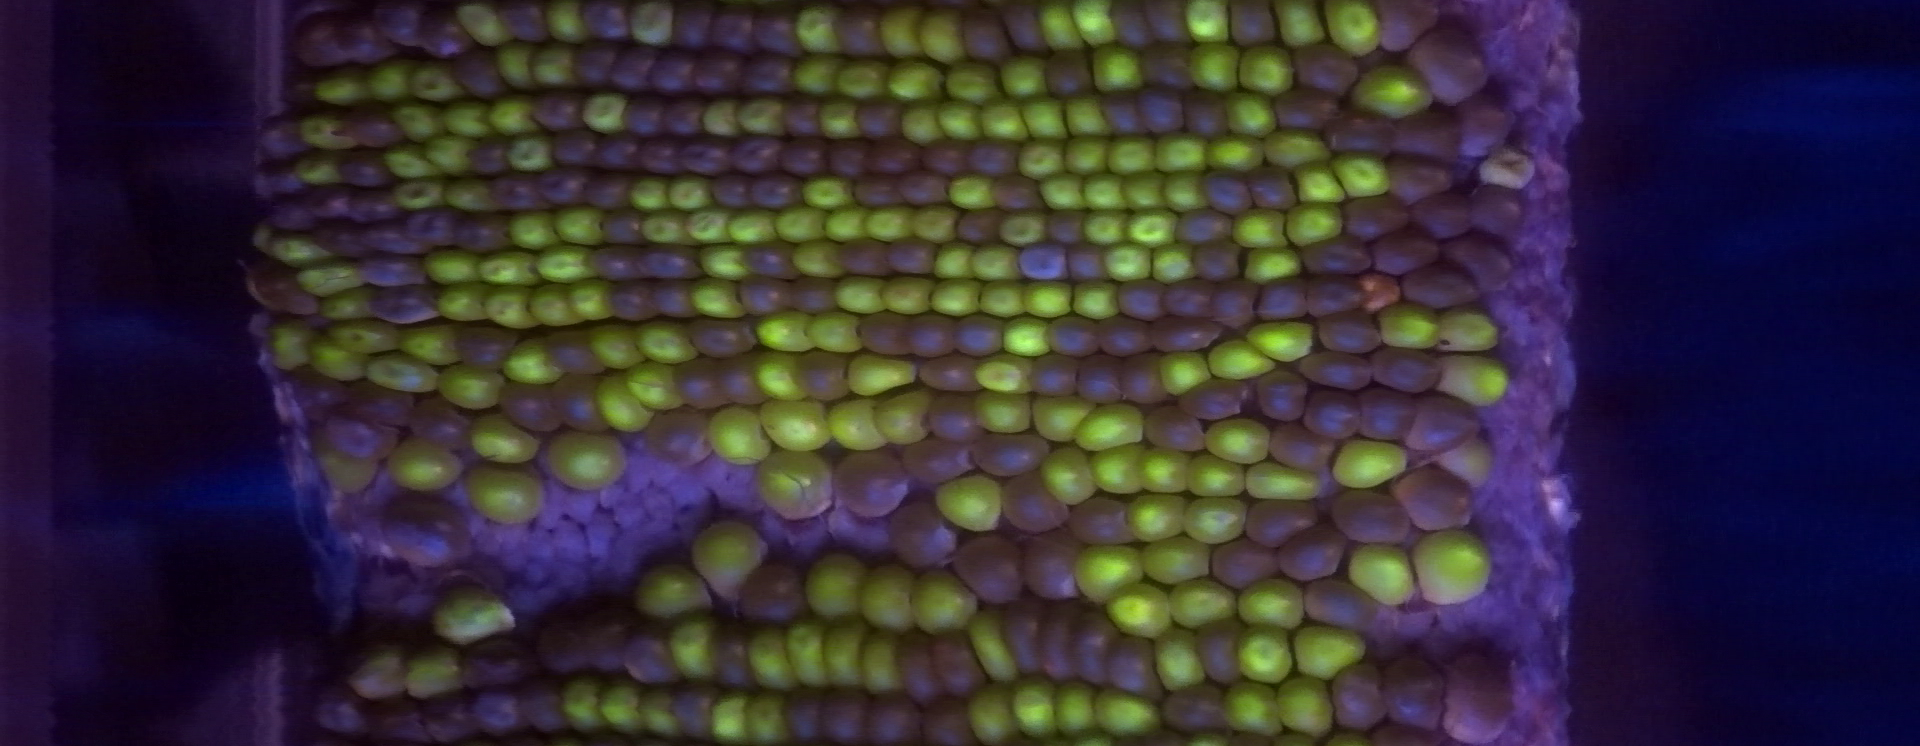fluorescent: (688, 517, 775, 606), (1404, 526, 1496, 608), (749, 446, 841, 524), (430, 583, 523, 649), (542, 425, 631, 494), (460, 462, 551, 528), (1068, 539, 1153, 608), (301, 420, 384, 489), (1341, 540, 1424, 609), (907, 563, 983, 637), (632, 561, 716, 626), (1347, 61, 1436, 122), (1289, 619, 1371, 685), (962, 606, 1025, 691), (1329, 434, 1414, 495), (1086, 681, 1176, 739), (855, 561, 921, 638), (1232, 575, 1310, 639), (703, 401, 776, 469), (754, 394, 838, 454), (1431, 429, 1502, 499), (1164, 573, 1245, 635), (802, 549, 868, 624), (1231, 619, 1300, 688), (387, 435, 467, 495), (1435, 350, 1515, 410), (1027, 391, 1109, 448), (1272, 668, 1338, 739), (1220, 677, 1293, 741), (931, 474, 1007, 535), (867, 383, 937, 450), (1104, 579, 1179, 641), (1150, 624, 1213, 693), (430, 359, 512, 413), (467, 409, 545, 465), (590, 369, 656, 434), (1037, 443, 1102, 510), (1240, 457, 1326, 506), (1138, 532, 1215, 586), (665, 612, 721, 686), (1201, 414, 1276, 469), (344, 643, 414, 702), (845, 349, 924, 401), (1071, 401, 1147, 454), (743, 624, 801, 695), (1375, 296, 1449, 352), (827, 394, 894, 454), (306, 331, 373, 390), (1124, 489, 1191, 548), (785, 615, 834, 696), (1177, 495, 1251, 548), (315, 314, 405, 356), (400, 647, 469, 703), (1319, 1, 1387, 58), (1431, 304, 1506, 355), (628, 315, 704, 365), (857, 626, 909, 699), (1258, 125, 1343, 169), (1010, 673, 1063, 744), (965, 681, 1022, 746), (820, 619, 869, 695), (588, 316, 648, 377), (1086, 440, 1151, 496), (969, 386, 1040, 437), (913, 2, 969, 69), (558, 671, 612, 739), (969, 349, 1041, 399), (362, 349, 447, 392), (291, 255, 373, 299), (624, 358, 688, 414), (261, 314, 320, 374), (503, 330, 566, 386), (753, 349, 816, 405), (1086, 40, 1150, 96), (1236, 40, 1300, 94), (1205, 337, 1280, 383), (1183, 38, 1244, 94), (595, 675, 649, 739), (1185, 452, 1255, 500), (1329, 151, 1395, 201), (1281, 198, 1347, 249), (264, 229, 342, 272), (520, 281, 588, 330), (387, 96, 451, 147), (756, 307, 819, 359), (451, 1, 516, 51), (480, 281, 545, 331), (1229, 205, 1296, 254), (1048, 675, 1103, 734), (884, 58, 951, 105), (876, 269, 940, 318), (1138, 443, 1196, 497), (475, 247, 551, 289), (943, 58, 1005, 108), (1222, 89, 1284, 140), (1157, 348, 1221, 397), (364, 51, 420, 107), (528, 37, 585, 91), (793, 4, 851, 58), (877, 1, 931, 59), (1150, 129, 1215, 176), (1240, 243, 1305, 290), (804, 309, 869, 356), (835, 54, 895, 105), (771, 201, 838, 247), (298, 110, 365, 156), (531, 241, 602, 284), (550, 201, 613, 249), (632, 682, 686, 739), (380, 141, 448, 185), (637, 207, 705, 251), (436, 278, 495, 330), (687, 274, 752, 321), (398, 318, 463, 365), (733, 92, 793, 142), (1269, 1, 1329, 51), (791, 235, 853, 283), (312, 279, 380, 323), (422, 243, 487, 288), (998, 310, 1058, 359), (861, 200, 923, 246), (740, 691, 792, 746), (492, 37, 542, 94), (405, 59, 469, 104), (996, 49, 1056, 97), (502, 129, 562, 176), (1100, 239, 1160, 287), (927, 274, 987, 322), (798, 169, 860, 216), (965, 241, 1027, 287), (790, 50, 849, 98), (1013, 135, 1071, 183), (1067, 276, 1125, 323), (561, 274, 620, 322), (313, 62, 373, 109), (944, 169, 1005, 214), (1035, 1, 1085, 56), (662, 169, 725, 213), (976, 98, 1035, 145), (1106, 131, 1164, 178), (1019, 277, 1078, 323), (725, 205, 789, 247), (1287, 160, 1351, 203), (437, 96, 497, 141), (1059, 94, 1114, 143), (1060, 134, 1116, 183), (829, 269, 890, 314), (705, 687, 753, 744), (507, 207, 564, 254), (1078, 170, 1136, 216), (1202, 132, 1270, 171), (895, 100, 950, 148), (976, 274, 1031, 322), (909, 202, 965, 249), (697, 240, 756, 284), (1067, 1, 1120, 49), (579, 89, 633, 137), (1019, 94, 1074, 141), (996, 205, 1052, 250), (440, 171, 497, 216), (482, 96, 545, 136), (388, 173, 451, 213), (817, 201, 876, 244), (1120, 169, 1174, 216), (422, 132, 478, 178), (1079, 205, 1135, 249), (934, 98, 984, 147), (1146, 239, 1198, 287), (931, 238, 984, 283), (1036, 171, 1091, 216), (1124, 208, 1184, 249), (1160, 167, 1213, 211), (629, 1, 678, 49), (1182, 1, 1232, 47), (684, 202, 735, 247), (698, 94, 749, 138), (623, 171, 676, 214), (544, 1, 591, 47), (816, 96, 864, 140), (290, 148, 345, 187), (252, 223, 287, 260)
nonfluorescent: (384, 497, 475, 568), (1408, 31, 1483, 108), (831, 452, 909, 518), (1449, 663, 1509, 741), (951, 537, 1022, 601), (1391, 472, 1474, 527), (1327, 489, 1411, 543), (249, 249, 313, 314), (887, 505, 958, 563), (1278, 523, 1349, 582), (1022, 533, 1082, 597), (1413, 392, 1480, 448), (927, 630, 986, 693), (648, 410, 711, 465), (898, 628, 944, 703), (1003, 475, 1065, 529), (1108, 636, 1162, 698), (898, 439, 973, 483), (460, 638, 536, 682), (404, 398, 474, 446), (1005, 604, 1051, 677), (746, 566, 803, 624), (978, 429, 1049, 475), (718, 616, 759, 695), (1041, 605, 1084, 681), (551, 375, 607, 431), (1271, 420, 1333, 470), (1067, 499, 1129, 549), (1389, 665, 1439, 728), (348, 379, 416, 424), (1291, 45, 1356, 93), (1293, 352, 1374, 390), (1212, 541, 1275, 590), (500, 381, 563, 429), (293, 11, 348, 66), (1466, 186, 1522, 240), (1404, 266, 1477, 307), (1179, 381, 1251, 423), (834, 2, 888, 58), (1371, 347, 1439, 391), (1074, 608, 1114, 681), (1245, 502, 1316, 544), (1373, 2, 1434, 50), (1387, 111, 1453, 156), (1458, 100, 1511, 156), (1251, 369, 1307, 421), (1360, 388, 1416, 441), (867, 691, 924, 741), (327, 410, 392, 454), (1325, 115, 1393, 157), (713, 352, 767, 404), (1332, 670, 1381, 728), (1446, 241, 1509, 285), (1303, 390, 1360, 437), (452, 322, 511, 369), (415, 693, 474, 740), (1343, 200, 1411, 240), (921, 698, 981, 744), (1409, 196, 1476, 236), (819, 690, 872, 740), (626, 627, 673, 682), (1142, 405, 1204, 448), (1318, 311, 1382, 352), (544, 331, 600, 377), (793, 353, 850, 398), (1196, 624, 1243, 677), (359, 285, 437, 317), (689, 317, 754, 355), (452, 50, 506, 96), (677, 359, 727, 407), (1382, 162, 1447, 198), (1374, 236, 1436, 274), (1277, 89, 1333, 131), (960, 11, 1009, 59), (1297, 243, 1370, 274), (737, 273, 789, 318), (860, 312, 911, 358), (782, 687, 827, 740), (470, 690, 524, 733), (1120, 355, 1167, 404), (999, 2, 1044, 53), (1029, 352, 1081, 394), (1167, 688, 1220, 731), (531, 91, 585, 132), (1098, 315, 1152, 356), (1262, 274, 1308, 323), (1152, 315, 1210, 353), (339, 12, 384, 60), (633, 246, 700, 278), (1161, 278, 1213, 318), (405, 205, 463, 241), (1076, 352, 1123, 397), (1108, 4, 1157, 47), (1202, 170, 1251, 213), (689, 51, 741, 92), (1307, 277, 1363, 314), (1041, 54, 1093, 93), (922, 356, 982, 391), (1140, 87, 1184, 134), (673, 687, 711, 741), (742, 243, 803, 276), (1145, 45, 1195, 85), (909, 314, 954, 356), (1211, 279, 1253, 326), (989, 174, 1042, 211), (358, 254, 425, 282), (609, 44, 653, 87), (576, 40, 615, 88), (1118, 281, 1166, 320), (836, 239, 889, 274), (585, 249, 642, 282), (550, 131, 600, 168), (651, 51, 696, 93), (651, 277, 696, 318), (709, 9, 754, 49), (1255, 165, 1296, 211), (890, 236, 936, 277), (487, 176, 542, 209), (955, 318, 1003, 356), (1179, 91, 1221, 134), (866, 142, 916, 178), (580, 2, 624, 43), (1229, 2, 1270, 47), (260, 118, 306, 156), (302, 223, 373, 247), (1047, 318, 1096, 354), (1146, 2, 1188, 44), (659, 97, 700, 138), (1102, 94, 1142, 137), (931, 394, 971, 437), (1176, 208, 1232, 239), (351, 111, 397, 149), (1195, 245, 1243, 281), (756, 12, 796, 54), (920, 138, 969, 173), (971, 138, 1018, 174), (898, 173, 949, 205), (671, 2, 710, 44), (860, 100, 901, 140), (351, 183, 394, 220), (1020, 243, 1063, 281), (749, 174, 795, 209), (736, 137, 776, 176), (460, 217, 508, 250), (791, 279, 839, 312), (366, 227, 421, 255), (372, 7, 419, 40), (549, 169, 587, 209), (828, 143, 871, 179), (500, 1, 544, 36), (744, 55, 789, 89), (621, 99, 665, 134), (960, 208, 1004, 243), (640, 140, 681, 176), (529, 685, 563, 728), (611, 281, 648, 320), (1071, 241, 1106, 283), (257, 160, 301, 192), (264, 195, 309, 227), (598, 138, 637, 174), (471, 137, 511, 173), (683, 145, 733, 171), (779, 145, 827, 173), (602, 213, 643, 246), (419, 20, 460, 51), (856, 176, 902, 205), (1047, 207, 1086, 240), (309, 186, 345, 220), (589, 171, 629, 202), (716, 174, 753, 207), (782, 100, 818, 134), (342, 157, 388, 180)
